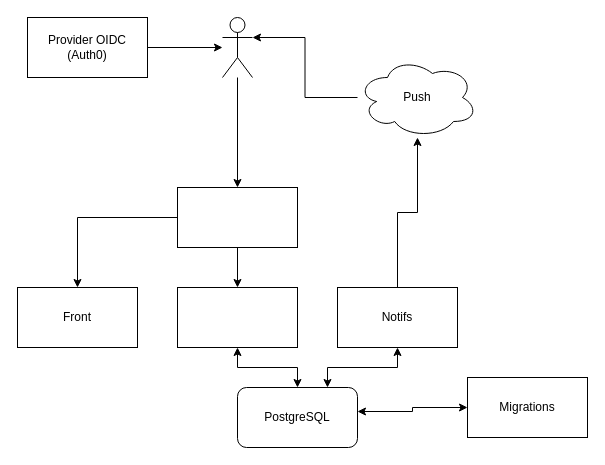
This 605x465 diagram has some shape labels left out. Each missing label, with the centre of its shape:
"Actor" goes at point (237, 47).
"Back" goes at point (237, 317).
"Traefik (load-balancer)" goes at point (237, 217).
